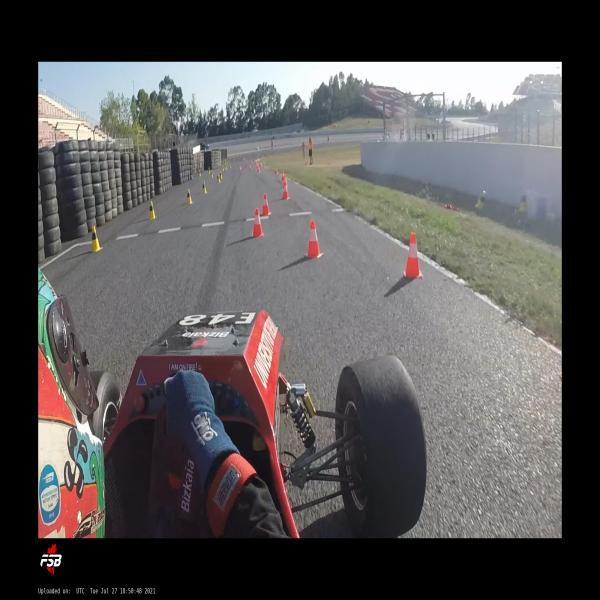orange_cone: (402, 232, 423, 280), (304, 220, 323, 258), (252, 208, 264, 238), (260, 193, 272, 216), (282, 181, 290, 200), (281, 170, 286, 183), (283, 175, 287, 184), (274, 167, 278, 174), (257, 165, 260, 173), (249, 164, 252, 170), (240, 166, 242, 172)
yellow_cone: (90, 225, 103, 252), (474, 188, 486, 210), (518, 189, 528, 214), (148, 200, 157, 219), (186, 188, 193, 204), (202, 181, 207, 194), (219, 172, 223, 180), (210, 171, 214, 178), (217, 174, 220, 183)
